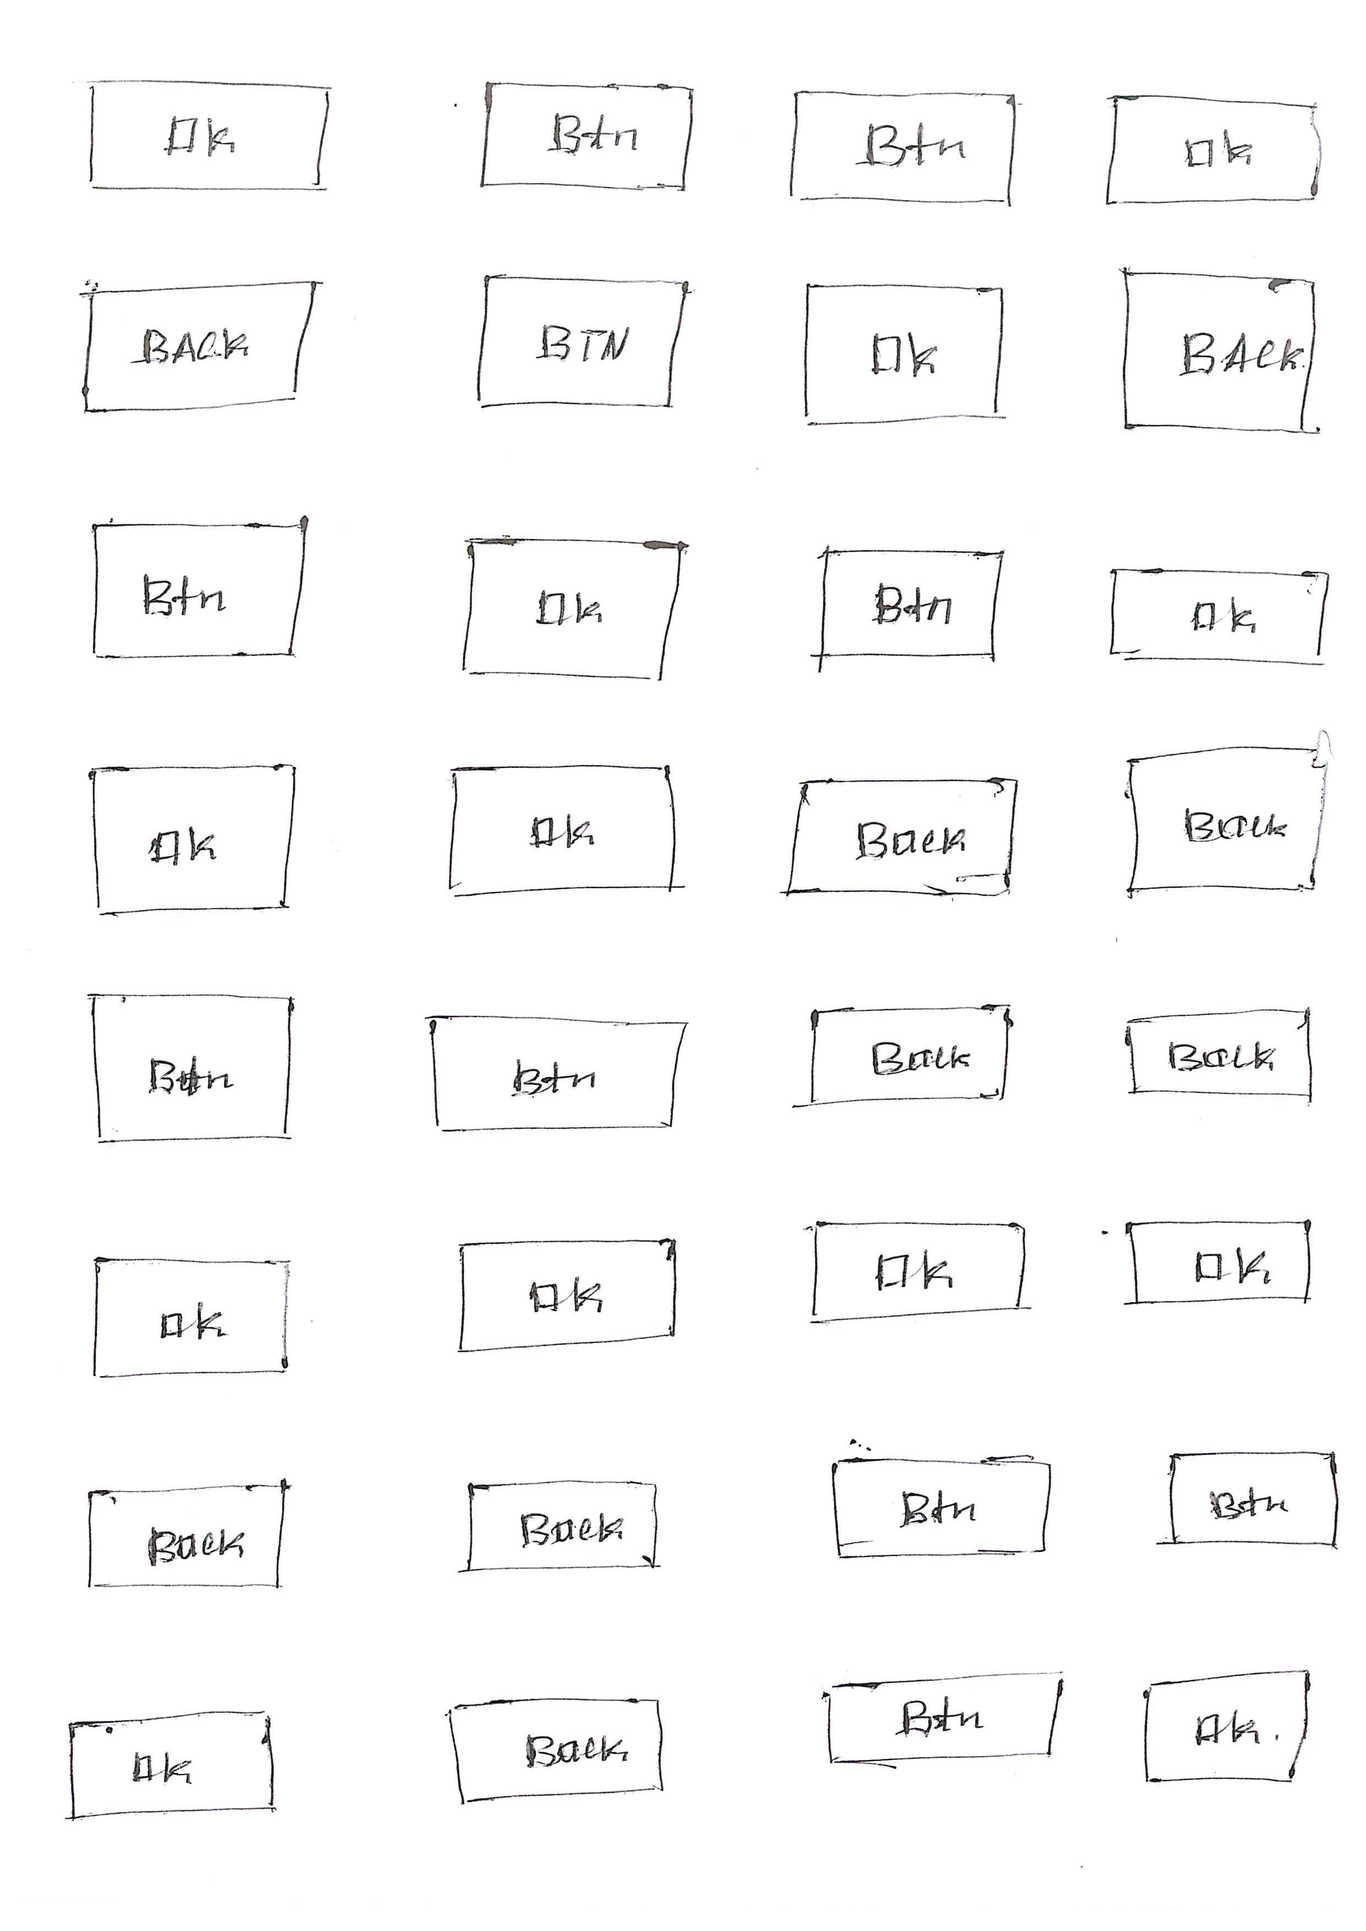Button: (1116, 265, 1322, 439), (458, 534, 687, 682), (84, 989, 297, 1146), (78, 276, 321, 414), (444, 761, 682, 900), (426, 1011, 689, 1136), (89, 761, 299, 917), (87, 516, 310, 661), (472, 271, 690, 414), (1121, 744, 1326, 896), (801, 279, 1010, 426), (84, 74, 334, 194), (782, 778, 1017, 899), (786, 89, 1022, 208), (452, 1235, 682, 1356), (87, 1251, 294, 1382), (1104, 92, 1325, 207), (479, 75, 696, 192), (64, 1706, 276, 1825), (446, 1691, 667, 1805), (820, 1666, 1067, 1767), (806, 1217, 1029, 1326), (831, 1453, 1053, 1561), (1104, 563, 1332, 668), (81, 1482, 291, 1592), (801, 1002, 1014, 1110), (812, 544, 1007, 659), (1141, 1663, 1314, 1786), (458, 1477, 661, 1575), (1163, 1446, 1347, 1547), (1122, 1215, 1319, 1307), (1122, 1007, 1316, 1099)
